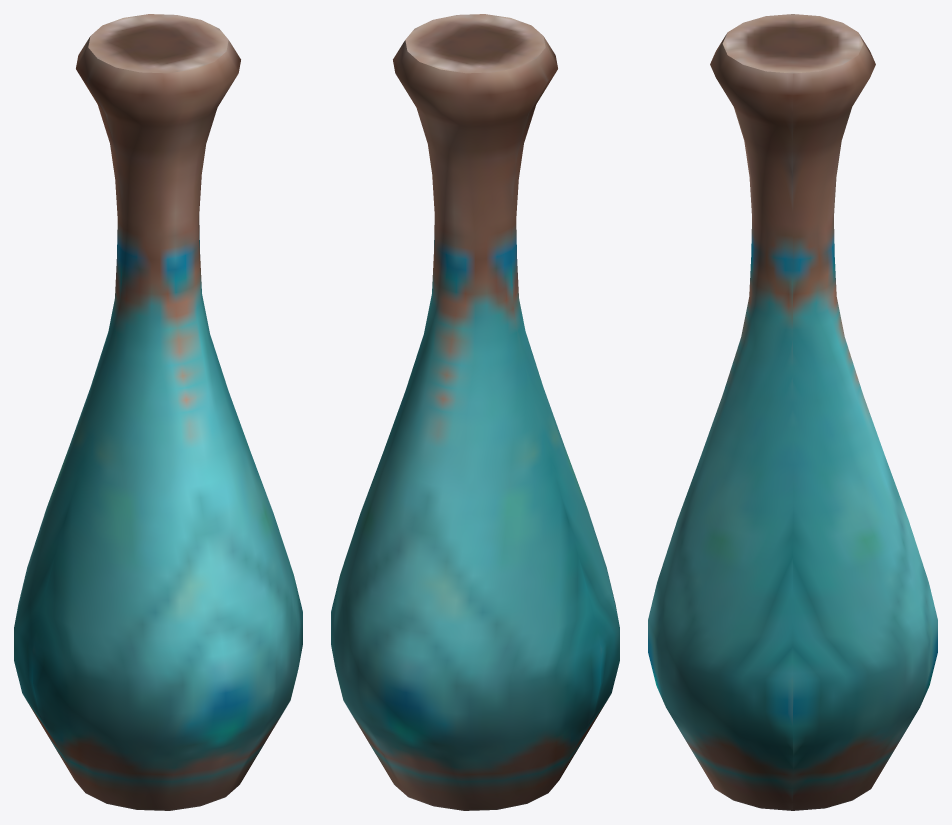
The model's file is Homeworld_Interior_Xm_Decoration_Prop_SmGrebottle_01_Vo.fbx.
The picture shows the model from 3 angles, left to right: view 1: azimuth 30°, elevation 25°; view 2: azimuth 150°, elevation 25°; view 3: azimuth 270°, elevation 25°; orthographic projection.
Parts seen in each view (by area): view 1: Indoor_Xm_Prop_Barbecue_Decoration_16_Vo; view 2: Indoor_Xm_Prop_Barbecue_Decoration_16_Vo; view 3: Indoor_Xm_Prop_Barbecue_Decoration_16_Vo.
Boxes of the visible parts, left/top/right/bottom form: Indoor_Xm_Prop_Barbecue_Decoration_16_Vo: left=14, top=14, right=302, bottom=810; Indoor_Xm_Prop_Barbecue_Decoration_16_Vo: left=331, top=14, right=619, bottom=810; Indoor_Xm_Prop_Barbecue_Decoration_16_Vo: left=648, top=14, right=937, bottom=810.
Bounding box in the file's own units: 0.1825 × 0.508 × 0.1825.
Materials: 1 (1 with a texture image).
